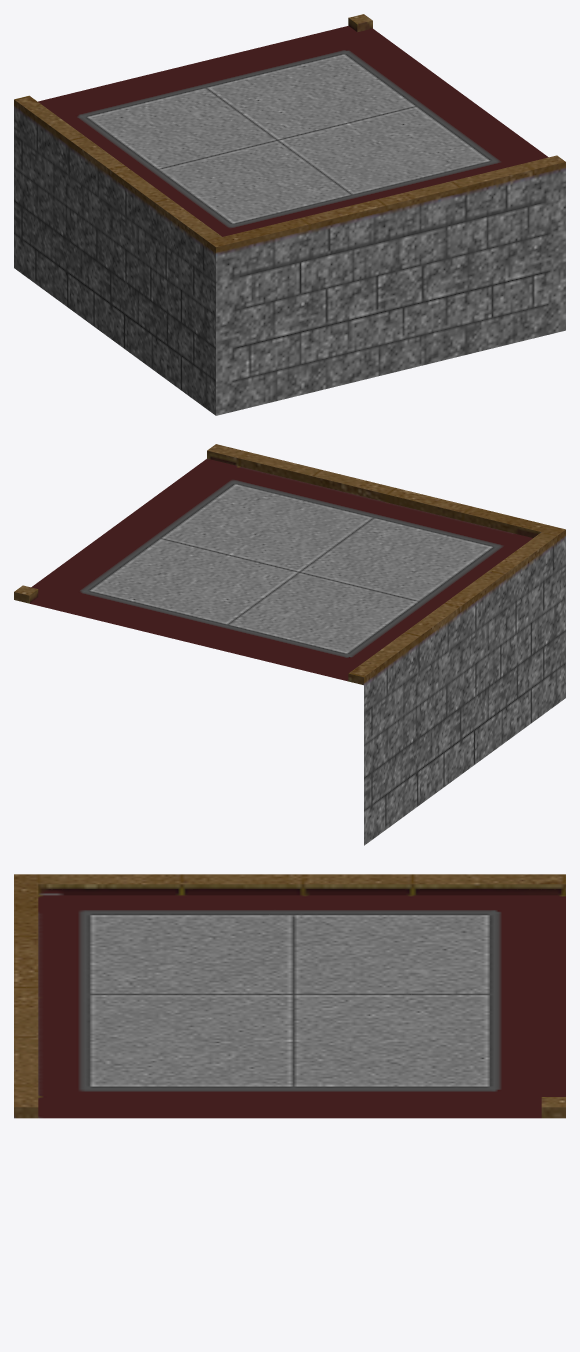
Rendered from Corner_Module.obj.
3 views of the same model, one above another, from view 1: azimuth 30°, elevation 25°; view 2: azimuth 150°, elevation 25°; view 3: azimuth 270°, elevation 25° (orthographic). The views are drawn at different scales.
Parts seen in each view (by area): view 1: polySurface56; view 2: polySurface56; view 3: polySurface56.
Boxes of the visible parts, left/top/right/bottom form: polySurface56: left=14, top=14, right=565, bottom=415; polySurface56: left=14, top=444, right=565, bottom=845; polySurface56: left=14, top=874, right=565, bottom=1118.
Size of the model in its own units: 197 by 90.53 by 197.
1 material, 1 textured.
